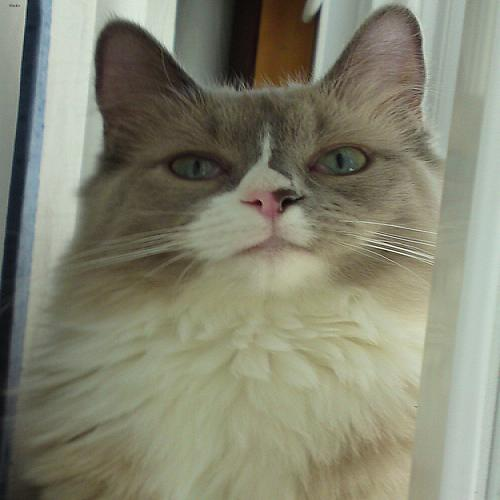ragdoll: (83, 1, 458, 318)
